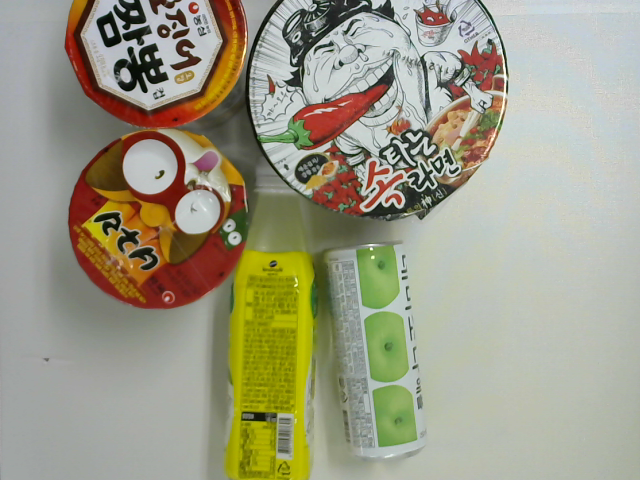Demisoda_Apple_Can_250ml: (319, 240, 430, 461)
HeJangsock: (248, 1, 507, 221)
Ojjam: (65, 1, 249, 129)
Raccoon: (69, 128, 248, 310)
Sunkist_Lemonaid_Pet: (225, 155, 317, 480)
